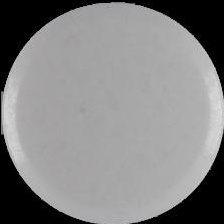0378-0162: (0, 0, 224, 224)
